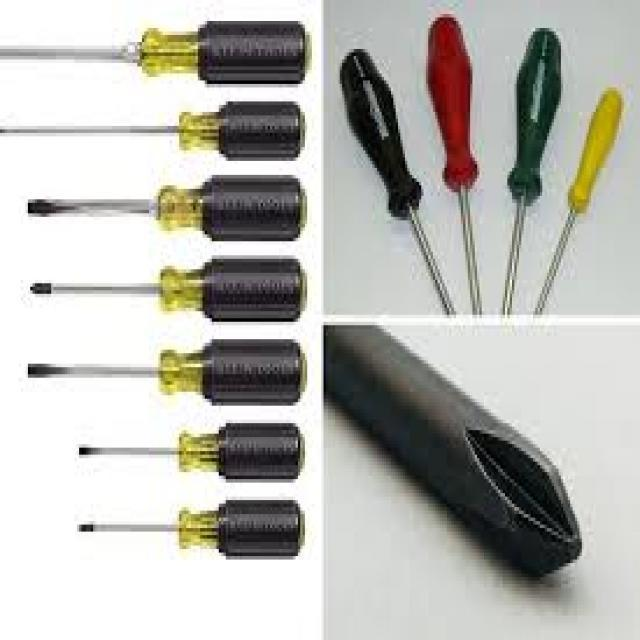screwdriver: (21, 166, 310, 250), (0, 12, 314, 89), (18, 252, 310, 332), (18, 334, 310, 411), (0, 98, 307, 168), (73, 420, 311, 493), (76, 495, 310, 565)
